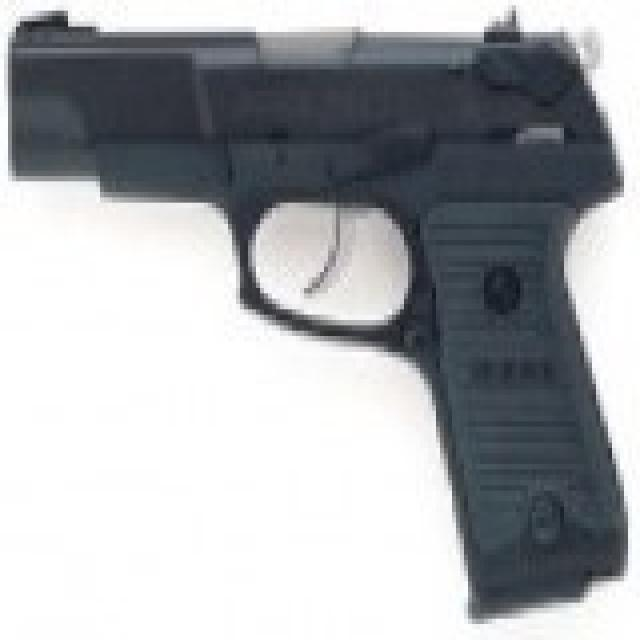Gun: (9, 7, 640, 578)
